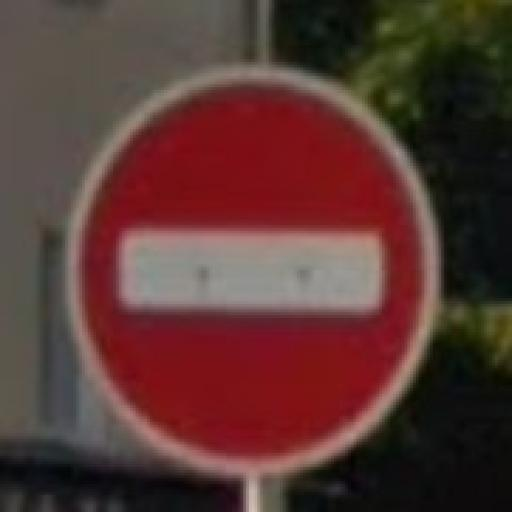traffic_sign: (62, 61, 447, 480)
